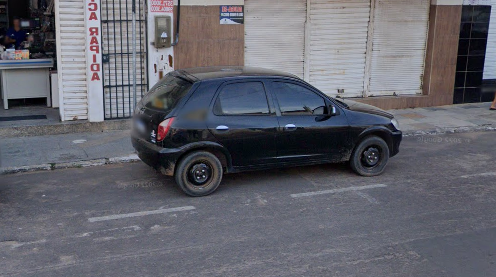car: (130, 63, 407, 201)
